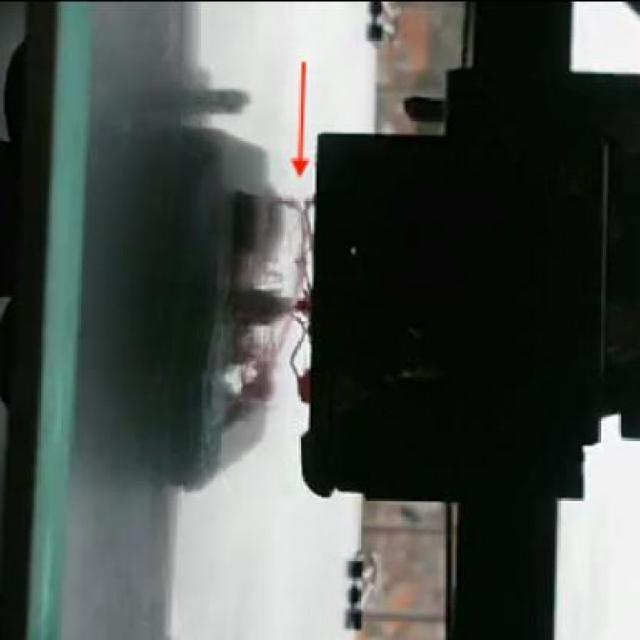spaghetti: (290, 195, 318, 380)
